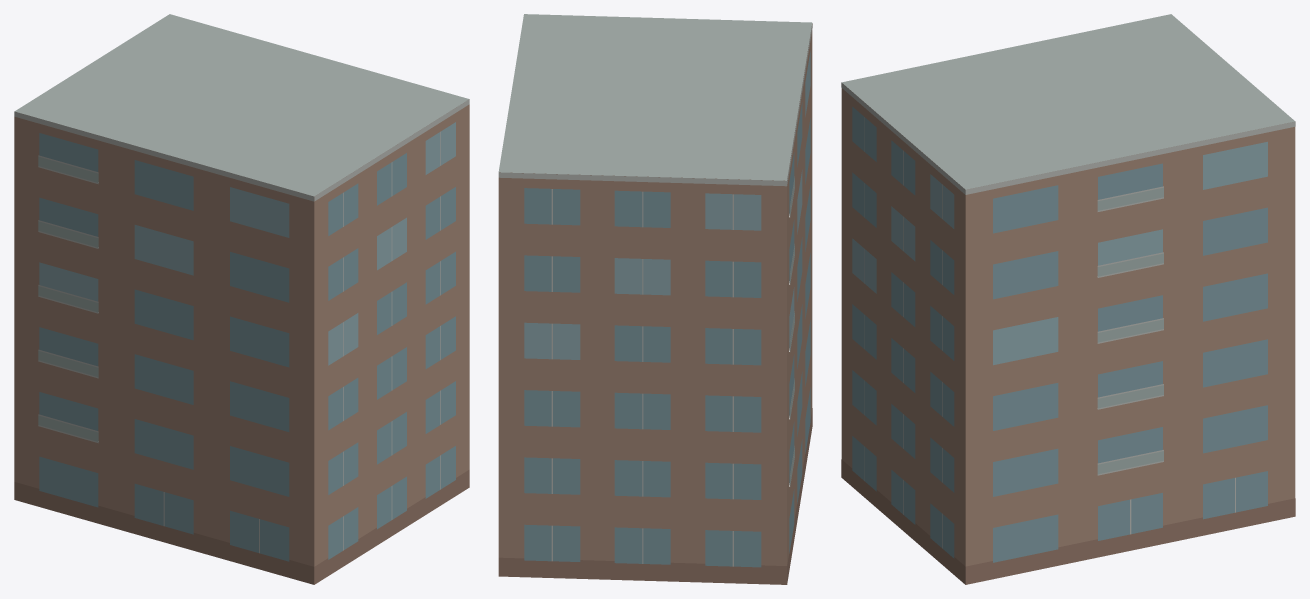
Rendered from survey-upis-33017315.glb.
3 renders of one model, left to right at view 1: azimuth 30°, elevation 25°; view 2: azimuth 150°, elevation 25°; view 3: azimuth 270°, elevation 25°, orthographic. The views are drawn at different scales.
Parts seen in each view (by area): view 1: survey-upis-33017315.tmp; view 2: survey-upis-33017315.tmp; view 3: survey-upis-33017315.tmp.
Boxes of the visible parts, bbox=[...] form: survey-upis-33017315.tmp: bbox=[14, 14, 469, 584]; survey-upis-33017315.tmp: bbox=[498, 14, 812, 584]; survey-upis-33017315.tmp: bbox=[841, 14, 1295, 584].
Size of the model in its own units: 17.46 by 18.3 by 19.06.
